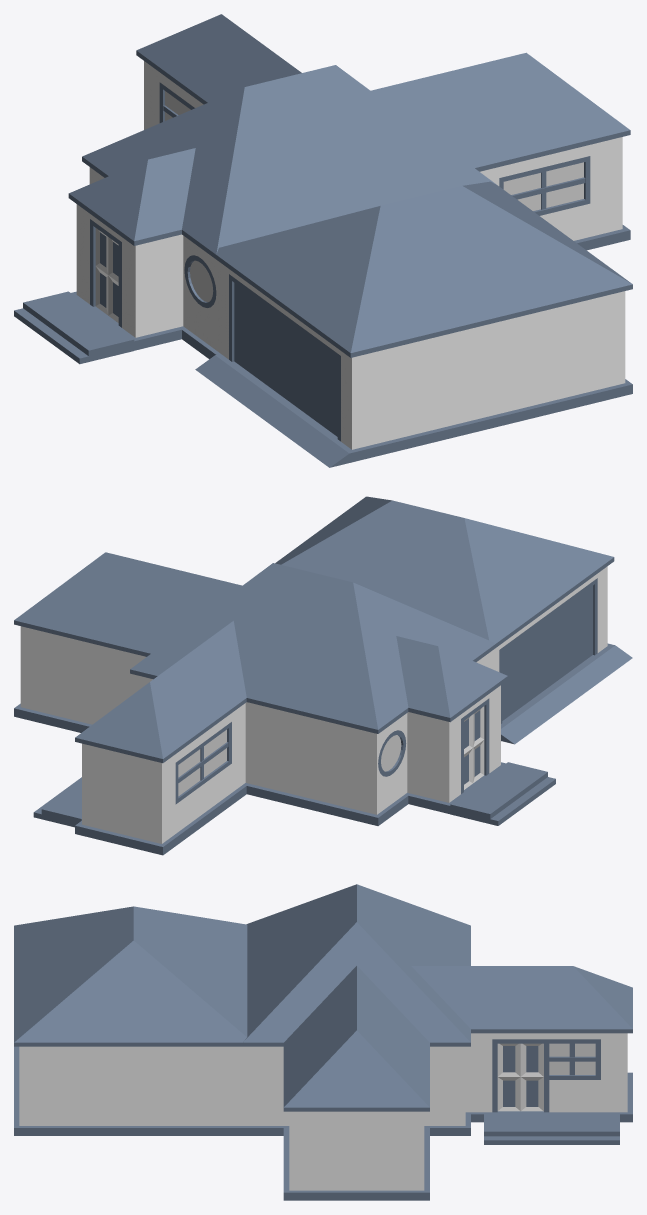
Rendered from House #17.fbx.
The picture shows the model from 3 angles, top to bottom: view 1: azimuth 30°, elevation 25°; view 2: azimuth 150°, elevation 25°; view 3: azimuth 270°, elevation 25°; orthographic projection. The views are drawn at different scales.
Visible parts, largest first — view 1: building_001; view 2: building_001; view 3: building_001.
Part boxes in pixels (bbox=[...]): building_001: bbox=[14, 14, 632, 467]; building_001: bbox=[14, 496, 632, 855]; building_001: bbox=[14, 884, 632, 1200].
Size of the model in its own units: 1188 by 430 by 1384.
